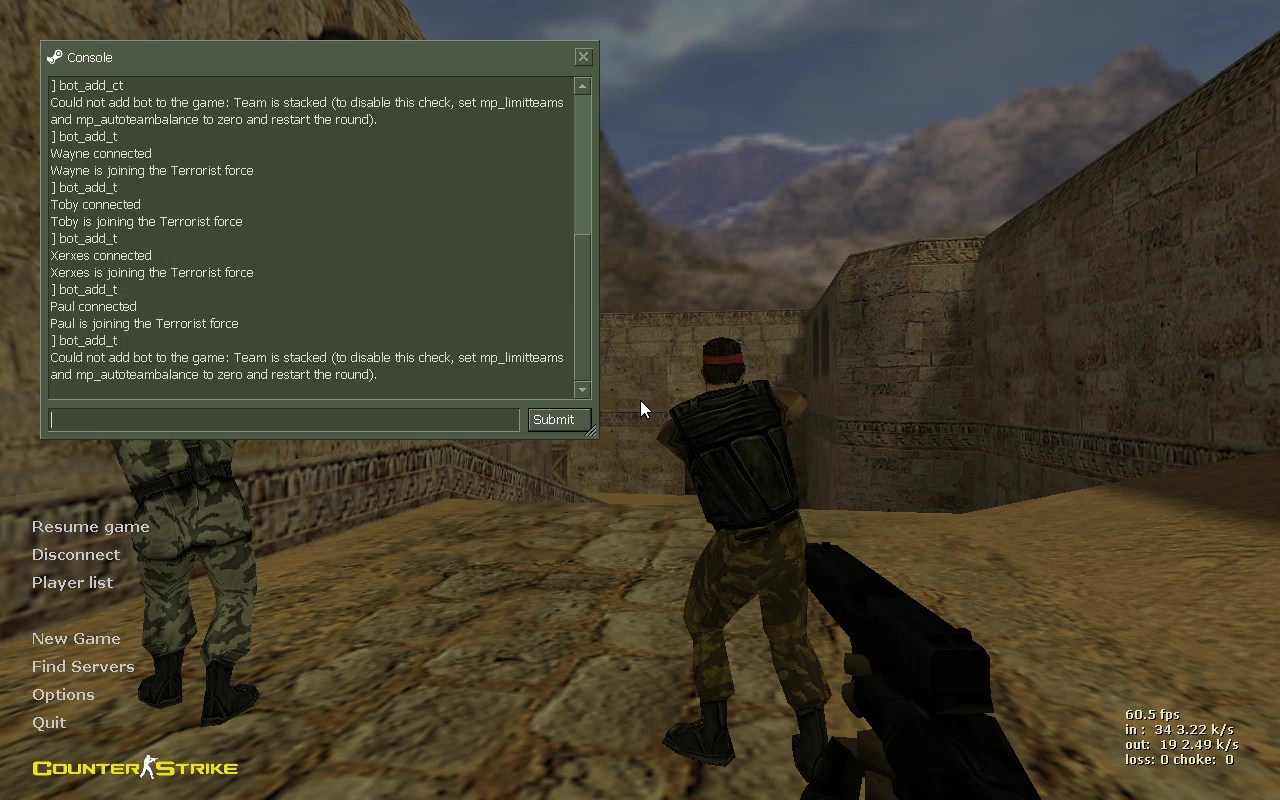terr1: (648, 339, 853, 784)
terr2: (101, 295, 266, 718)
